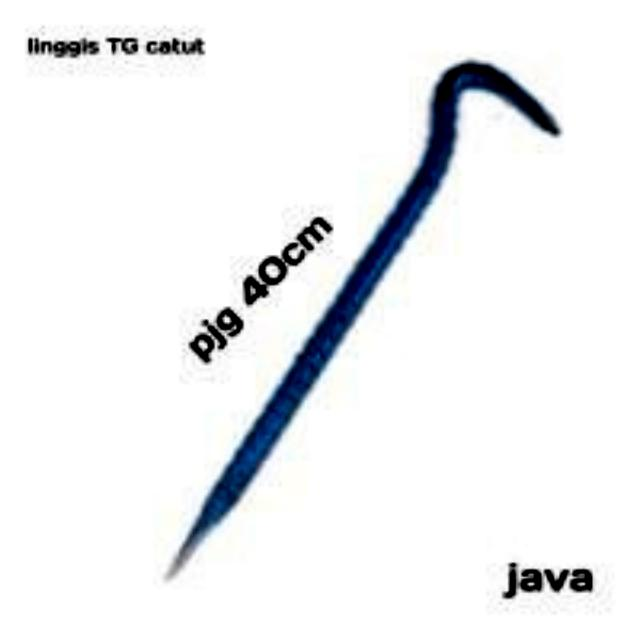crow bar: (163, 57, 563, 580)
